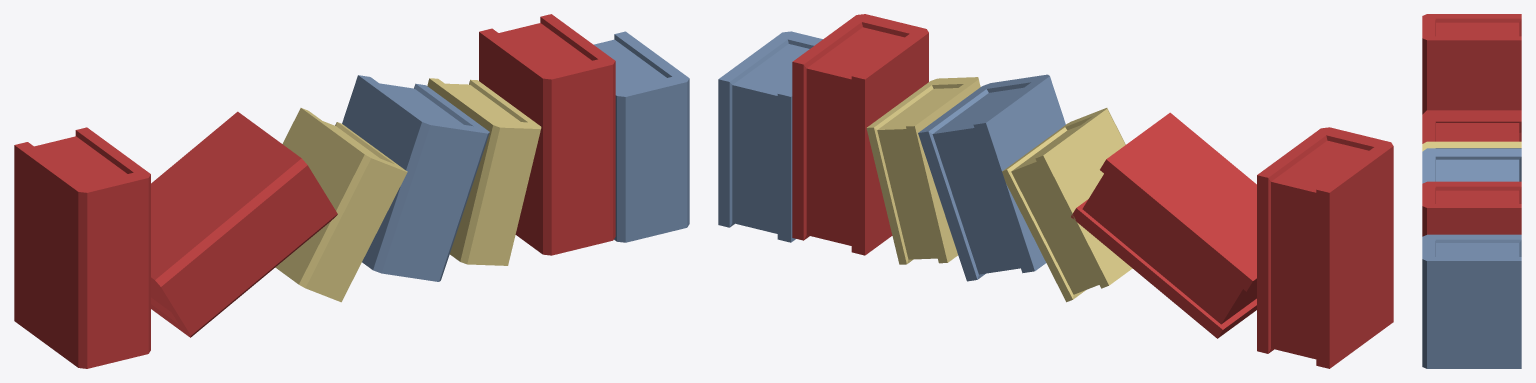
The model's file is bookstack8.fbx.
3 views of the same model, side by side, from view 1: azimuth 30°, elevation 25°; view 2: azimuth 150°, elevation 25°; view 3: azimuth 270°, elevation 25° (orthographic). The views are drawn at different scales.
Parts seen in each view (by area): view 1: bookstack8; view 2: bookstack8; view 3: bookstack8.
Part boxes in pixels (box(x1,y1,x2,y2)): bookstack8: box(14, 14, 689, 368); bookstack8: box(718, 14, 1393, 368); bookstack8: box(1422, 14, 1521, 368).
Bounding box in the file's own units: 85.01 × 24.09 × 16.19.
